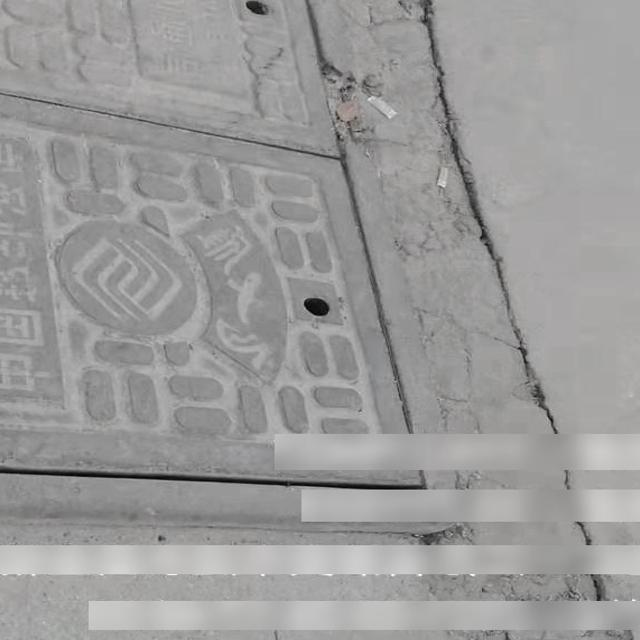good: (0, 0, 488, 524)
